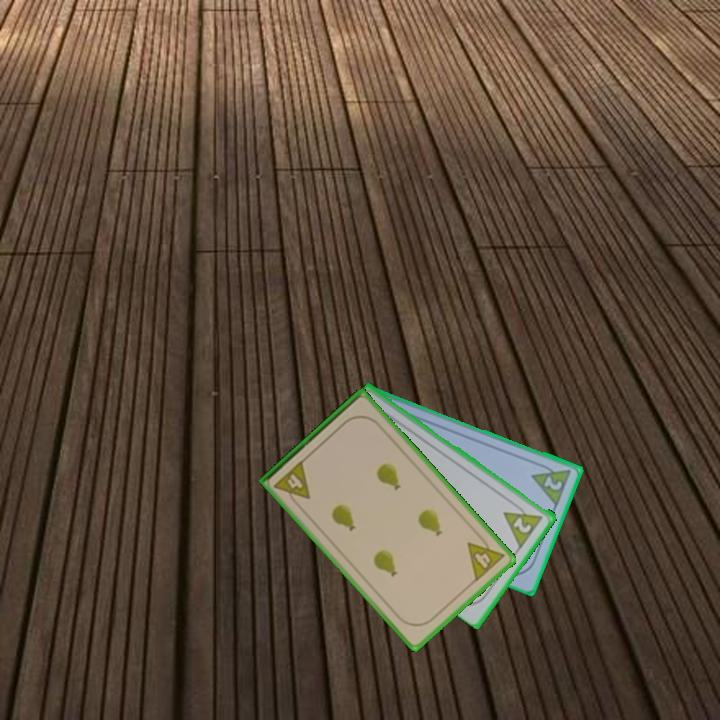2p: (500, 497, 547, 550), (540, 472, 566, 493)
4p: (464, 530, 507, 584), (271, 456, 313, 510)
